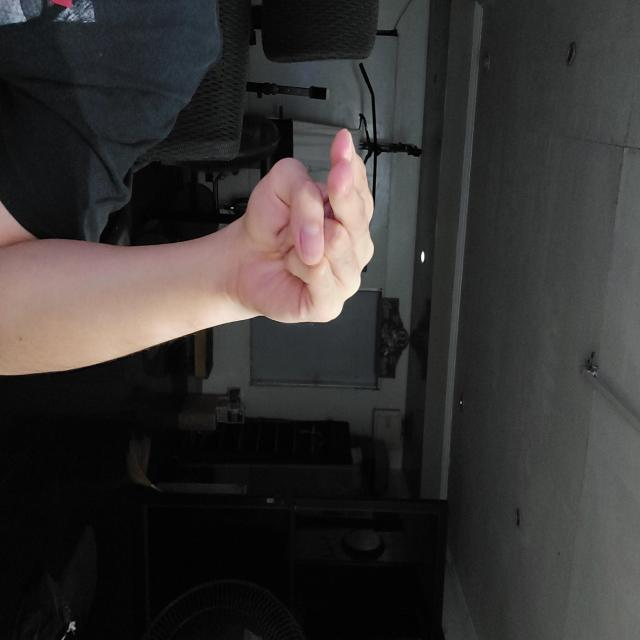N: (128, 265, 324, 403)
